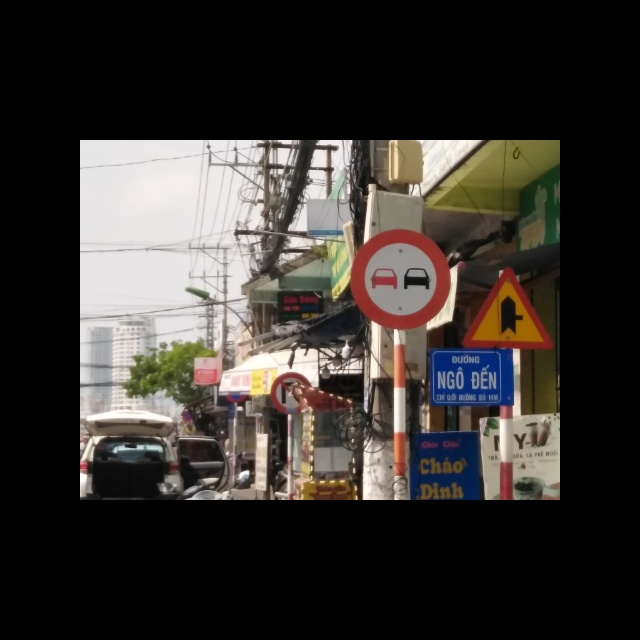Cấm vượt: (346, 225, 449, 329)
Giao nhau với đường không ưu tiên: (464, 266, 556, 352)
